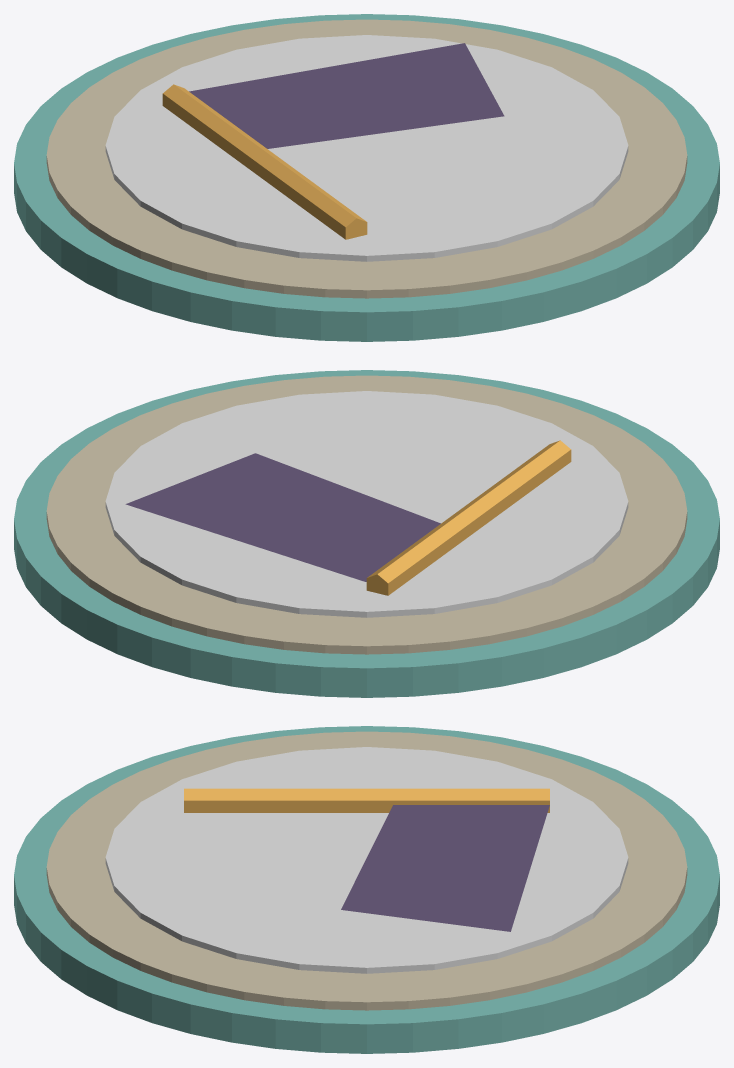
File: space_marker_ranger_command.glb
The picture shows the model from 3 angles, top to bottom: view 1: azimuth 30°, elevation 25°; view 2: azimuth 150°, elevation 25°; view 3: azimuth 270°, elevation 25°; orthographic projection.
Parts seen in each view (by area): view 1: FixedDetails, WoodBody, BrassTrim; view 2: FixedDetails, WoodBody, BrassTrim; view 3: FixedDetails, WoodBody, BrassTrim.
Part boxes in pixels (left/top/right/bottom): FixedDetails: left=14, top=14, right=719, bottom=341; WoodBody: left=105, top=35, right=628, bottom=261; BrassTrim: left=162, top=84, right=367, bottom=239; FixedDetails: left=14, top=370, right=719, bottom=697; WoodBody: left=105, top=391, right=628, bottom=617; BrassTrim: left=366, top=440, right=571, bottom=595; FixedDetails: left=14, top=726, right=719, bottom=1053; WoodBody: left=105, top=747, right=628, bottom=973; BrassTrim: left=184, top=788, right=549, bottom=812.
Bounding box in the file's own units: 0.54 × 0.056 × 0.54.
